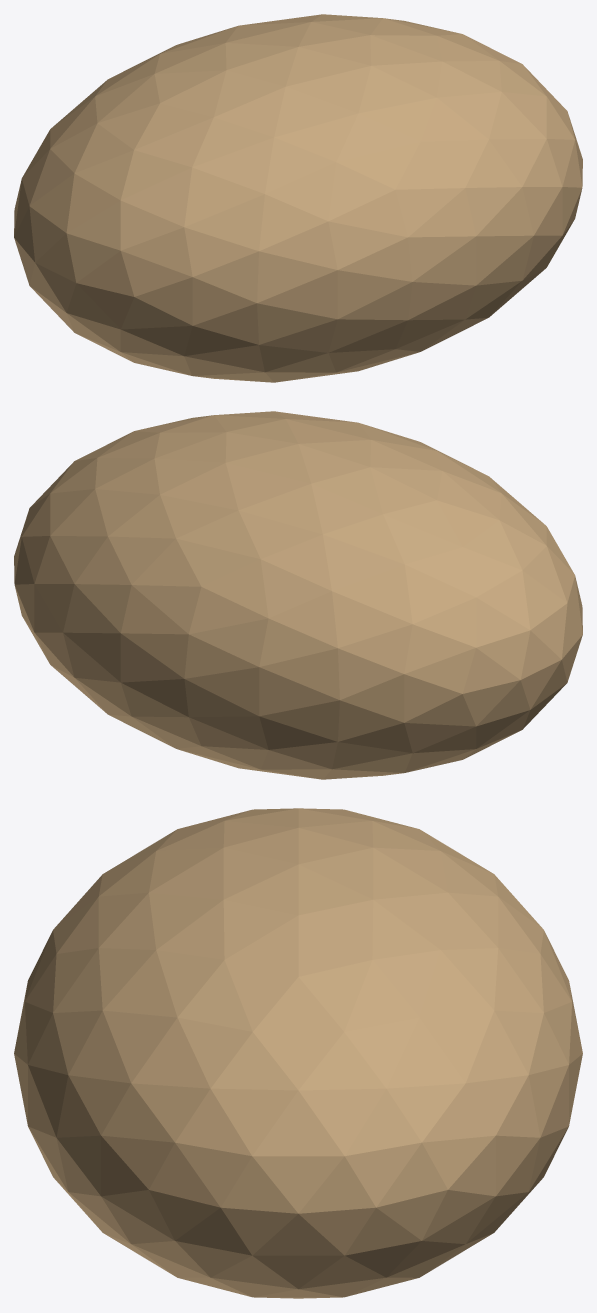
File: bread.glb
The picture shows the model from 3 angles, top to bottom: view 1: azimuth 30°, elevation 25°; view 2: azimuth 150°, elevation 25°; view 3: azimuth 270°, elevation 25°; orthographic projection. The views are drawn at different scales.
Visible parts, largest first — view 1: geometry_0; view 2: geometry_0; view 3: geometry_0.
Boxes of the visible parts, x1,y1,x2,y2 form: geometry_0: [14, 14, 582, 382]; geometry_0: [14, 411, 582, 779]; geometry_0: [14, 808, 582, 1298].
Bounding box in the file's own units: 0.23 × 0.1265 × 0.1725.
